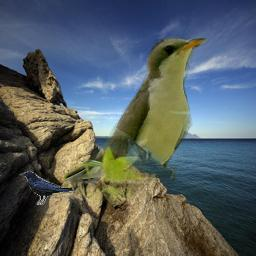Crow: (19, 171, 74, 205)
Cuckoo: (64, 33, 210, 205)
